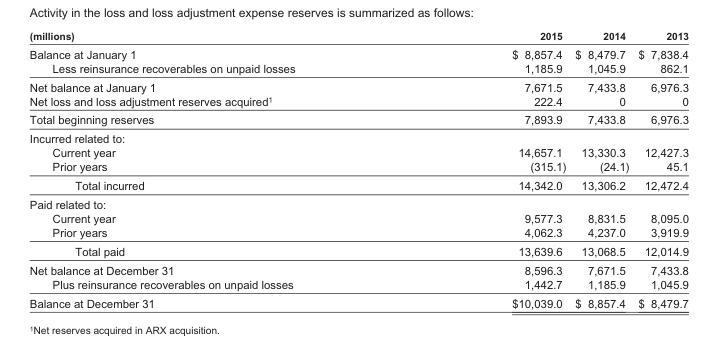table: (28, 29, 687, 308)
table column: (28, 29, 402, 308), (402, 29, 569, 308), (569, 29, 632, 308), (632, 29, 687, 308)
table column header: (28, 29, 687, 44)
table projected row header: (28, 128, 687, 145), (28, 194, 687, 210)
table row: (28, 109, 687, 128), (28, 175, 687, 194), (28, 241, 687, 260), (28, 60, 687, 77), (28, 128, 687, 145), (28, 224, 687, 241), (28, 276, 687, 293), (28, 44, 687, 60), (28, 77, 687, 93), (28, 93, 687, 109), (28, 159, 687, 175), (28, 194, 687, 210), (28, 260, 687, 276), (28, 29, 687, 44), (28, 293, 687, 308), (28, 145, 687, 159), (28, 210, 687, 224)
